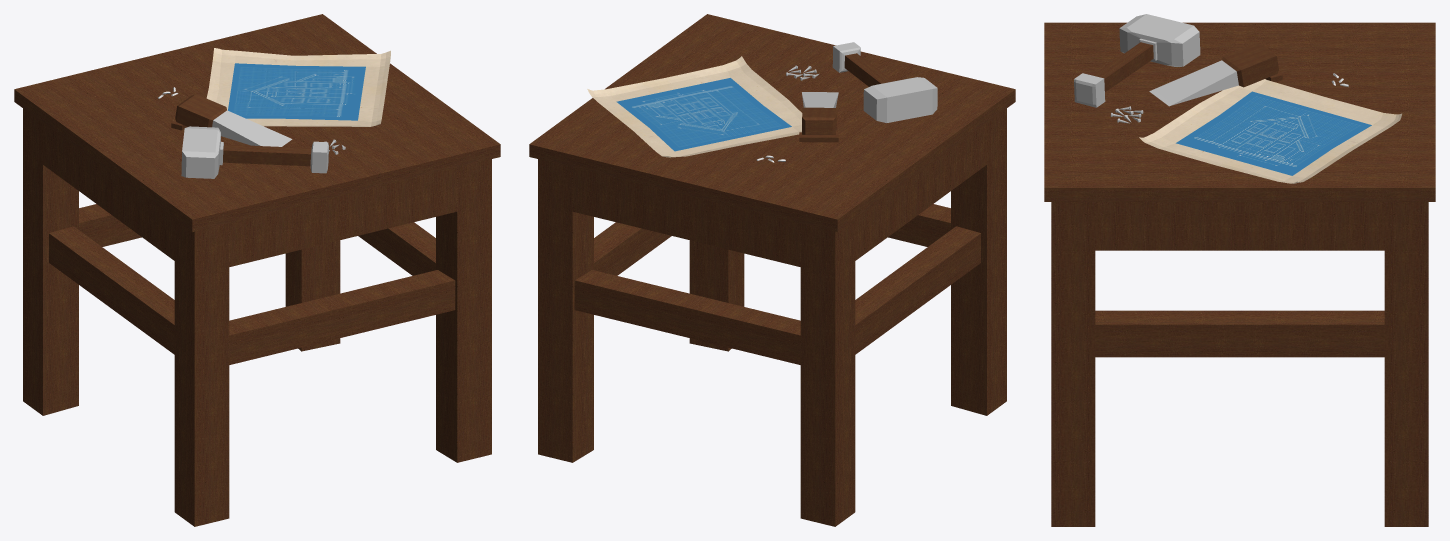
Rendered from  BuildersTable.fbx.
3 views of the same model, side by side, from view 1: azimuth 30°, elevation 25°; view 2: azimuth 150°, elevation 25°; view 3: azimuth 270°, elevation 25° (orthographic). The views are drawn at different scales.
Parts seen in each view (by area): view 1: Table.001; view 2: Table.001; view 3: Table.001.
Boxes of the visible parts, x1=… form: Table.001: x1=14, y1=14, x2=500, y2=526; Table.001: x1=529, y1=14, x2=1015, y2=526; Table.001: x1=1044, y1=14, x2=1435, y2=526.
Bounding box in the file's own units: 211 × 217 × 208.
